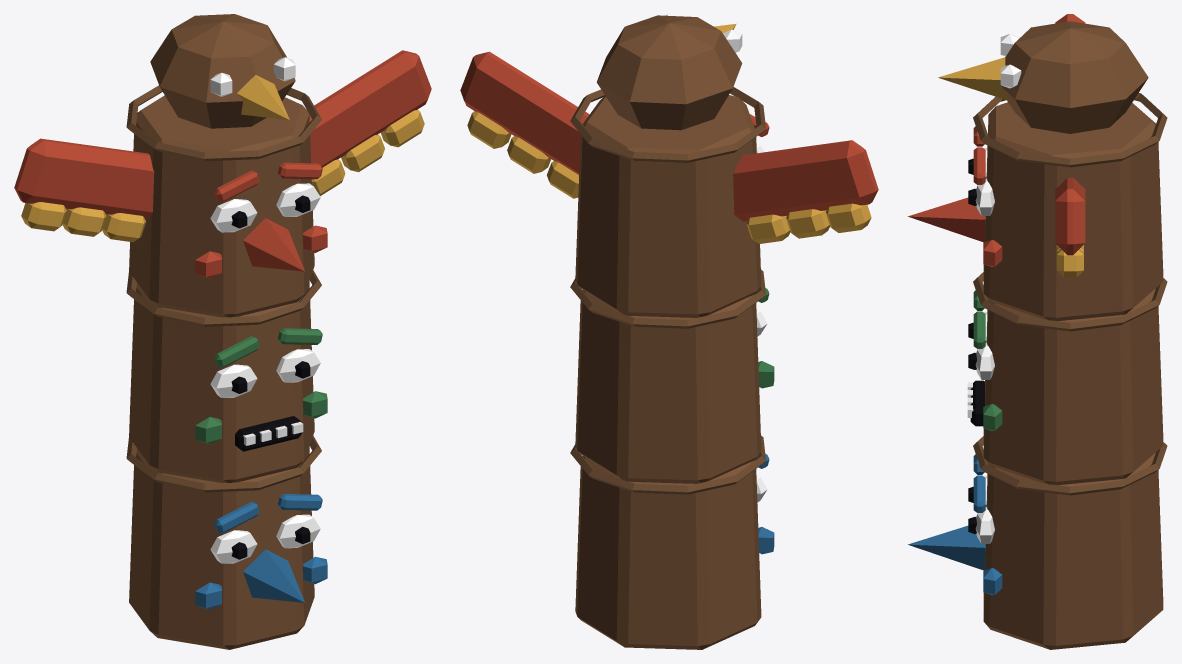
The model's file is totem.glb.
The picture shows the model from 3 angles, left to right: view 1: azimuth 30°, elevation 25°; view 2: azimuth 150°, elevation 25°; view 3: azimuth 270°, elevation 25°; orthographic projection.
Visible parts, largest first — view 1: totem; view 2: totem; view 3: totem.
Boxes of the visible parts, left/top/right/bottom form: totem: left=14, top=14, right=431, bottom=649; totem: left=460, top=14, right=878, bottom=649; totem: left=907, top=14, right=1167, bottom=649.
Bounding box in the file's own units: 0.7858 × 1.07 × 0.4313.
